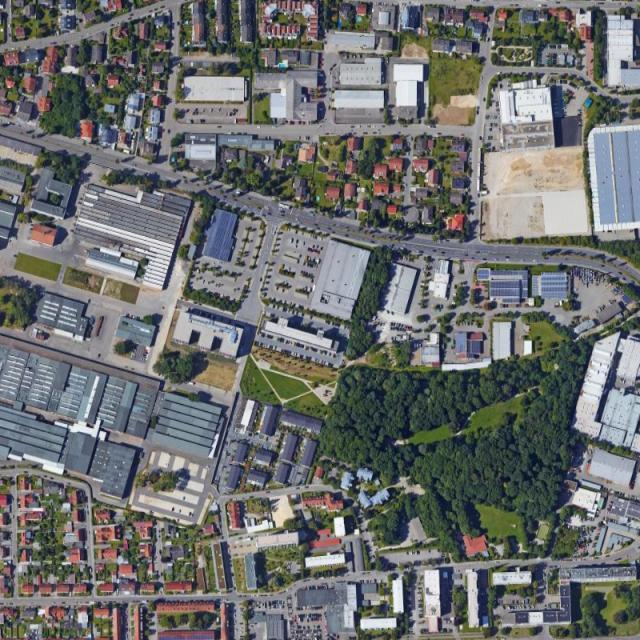vehicle: (279, 203, 290, 210), (49, 42, 57, 46)
